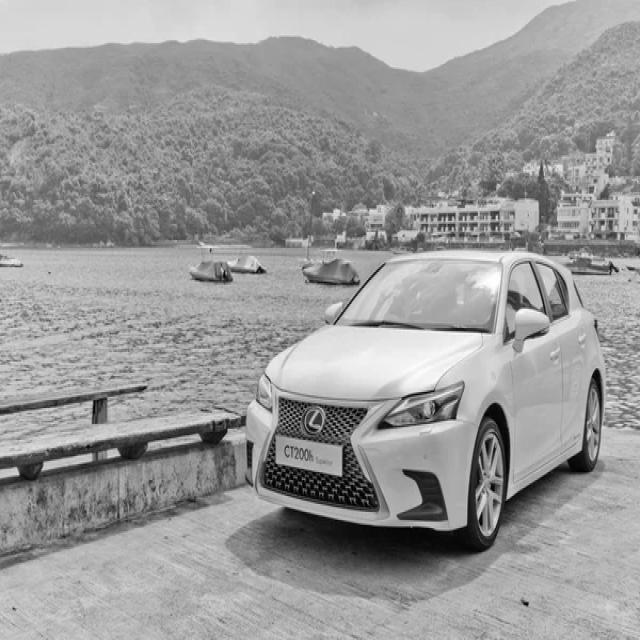Car: (246, 251, 606, 551)
